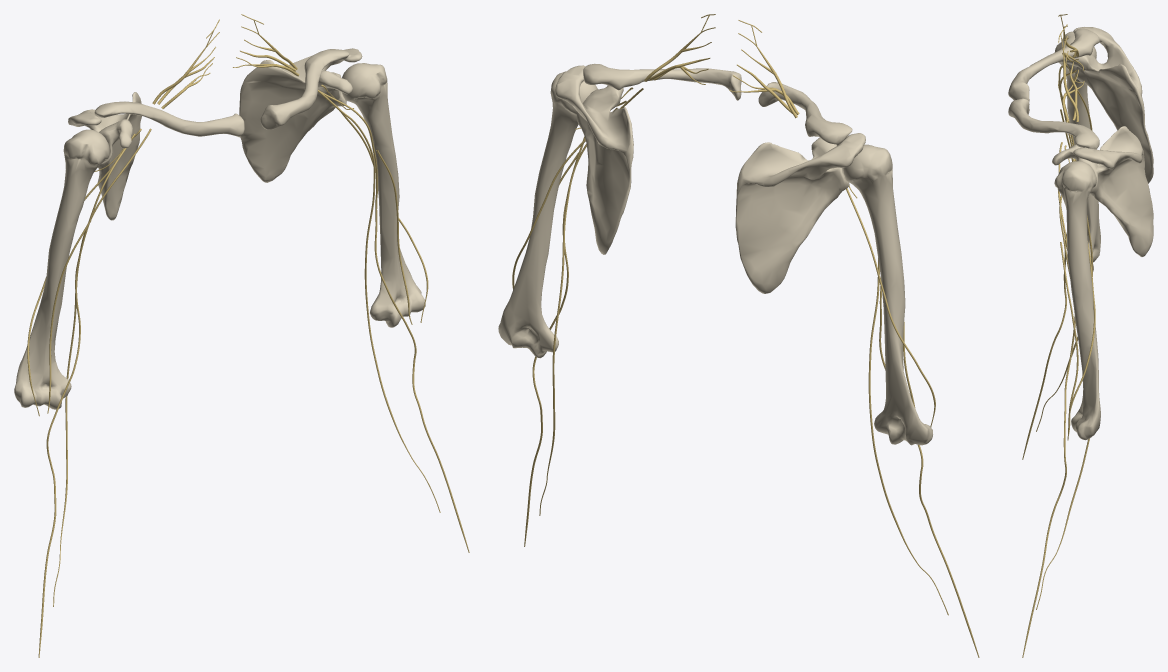
The model's file is upper-limb-balanced.glb.
3 renders of one model, left to right at view 1: azimuth 30°, elevation 25°; view 2: azimuth 150°, elevation 25°; view 3: azimuth 270°, elevation 25°, orthographic. The views are drawn at different scales.
Visible parts, largest first — view 1: za.humerus-r, za.humerus-l, za.scapula-l, za.scapula-r, za.clavicle-r, za.clavicle-l, za.median-nerve-r, za.median-nerve-l, za.ulnar-nerve-l, za.ulnar-nerve-r; view 2: za.scapula-r, za.humerus-r, za.humerus-l, za.scapula-l, za.clavicle-l, za.clavicle-r, za.ulnar-nerve-l, za.median-nerve-l, za.ulnar-nerve-r, za.median-nerve-r; view 3: za.humerus-l, za.scapula-l, za.scapula-r, za.humerus-r, za.clavicle-r, za.clavicle-l, za.median-nerve-l, za.median-nerve-r, za.ulnar-nerve-l, za.musculocutaneous-nerve-l, za.radial-nerve-l, za.ulnar-nerve-r (+1 smaller).
Boxes of the visible parts, box(x1,y1,x2,y2) form: za.humerus-r: box(14, 129, 109, 409); za.humerus-l: box(341, 63, 425, 327); za.scapula-l: box(239, 48, 362, 182); za.scapula-r: box(68, 92, 141, 220); za.clavicle-r: box(94, 101, 244, 137); za.clavicle-l: box(260, 49, 349, 129); za.median-nerve-r: box(38, 133, 135, 657); za.median-nerve-l: box(320, 91, 469, 552); za.ulnar-nerve-l: box(318, 90, 440, 512); za.ulnar-nerve-r: box(53, 128, 151, 606); za.scapula-r: box(735, 133, 865, 293); za.humerus-r: box(843, 144, 932, 445); za.humerus-l: box(498, 71, 597, 358); za.scapula-l: box(555, 65, 633, 254); za.clavicle-l: box(583, 63, 741, 100); za.clavicle-r: box(758, 82, 852, 144); za.ulnar-nerve-l: box(539, 88, 643, 515); za.median-nerve-l: box(524, 100, 626, 546); za.ulnar-nerve-r: box(868, 258, 948, 615); za.median-nerve-r: box(879, 276, 979, 657); za.humerus-l: box(1054, 161, 1100, 440); za.scapula-l: box(1052, 126, 1153, 256); za.scapula-r: box(1058, 27, 1153, 183); za.humerus-r: box(1054, 31, 1100, 271); za.clavicle-r: box(1008, 28, 1099, 101); za.clavicle-l: box(1008, 98, 1099, 149); za.median-nerve-l: box(1022, 158, 1075, 657); za.median-nerve-r: box(1022, 69, 1077, 459); za.ulnar-nerve-l: box(1036, 142, 1089, 609); za.musculocutaneous-nerve-l: box(1060, 242, 1078, 435); za.radial-nerve-l: box(1067, 241, 1095, 440); za.ulnar-nerve-r: box(1036, 65, 1092, 431).
Size of the model in its own units: 0.5279 by 0.6689 by 0.1633.
